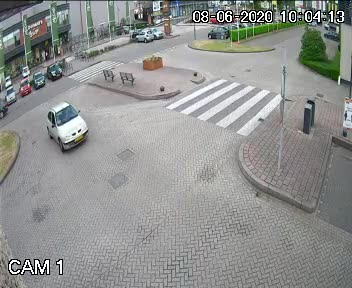car: (36, 97, 95, 158)
